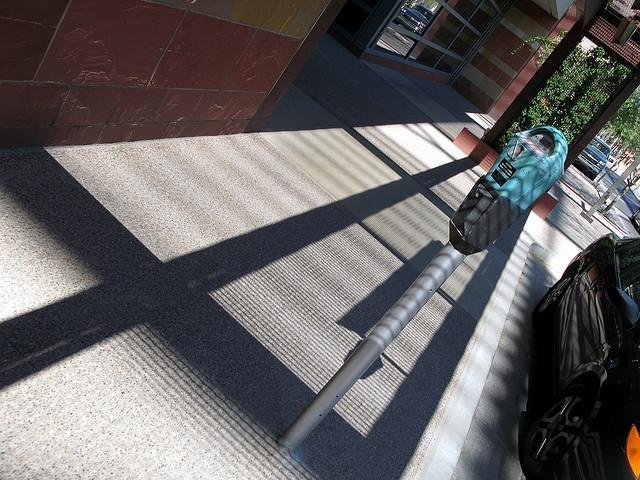car: (516, 236, 640, 474)
truck: (573, 136, 614, 182)
